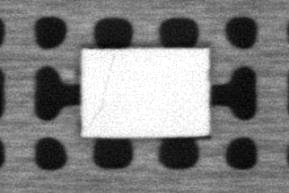DIE_CRACK: (89, 56, 113, 125)
